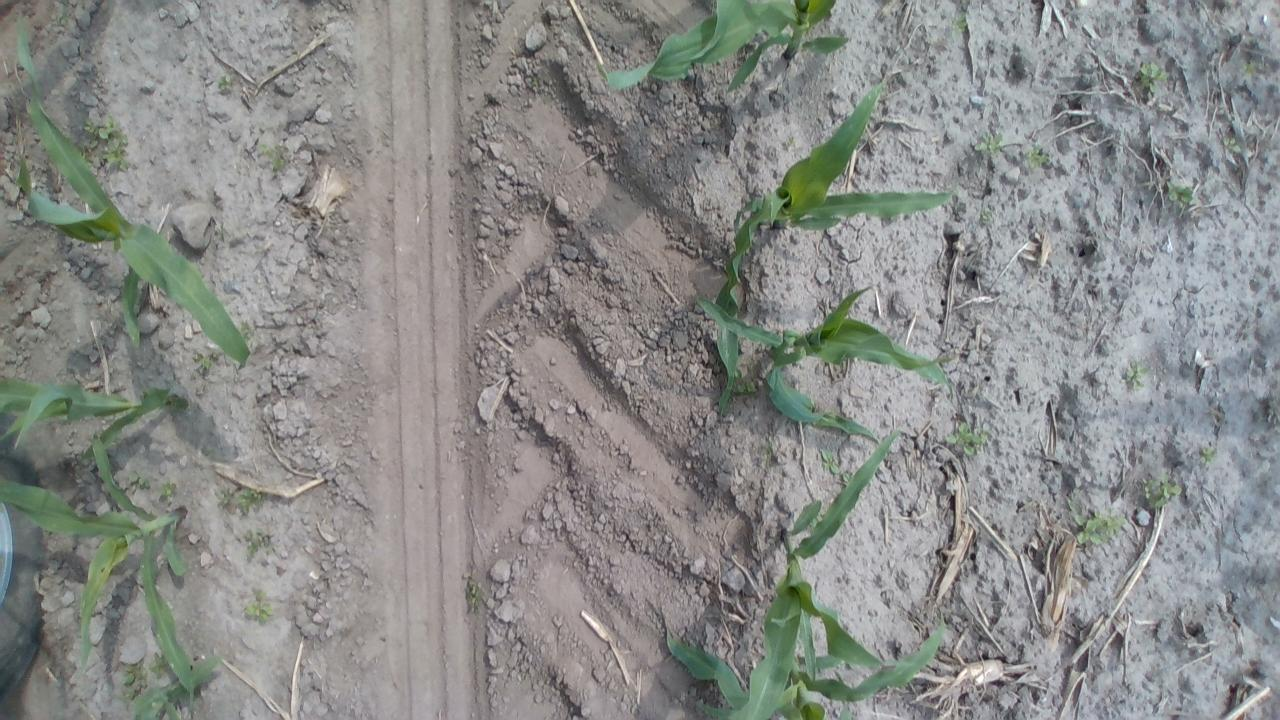Maize: (709, 77, 964, 421), (9, 15, 251, 370), (700, 427, 906, 720), (0, 434, 212, 698), (688, 286, 958, 448), (652, 617, 948, 720), (599, 0, 849, 94), (0, 367, 194, 467), (128, 657, 221, 720)
Weeds: (78, 113, 136, 175), (1066, 501, 1128, 547), (1136, 469, 1184, 513), (944, 421, 996, 457), (816, 446, 859, 488), (1163, 177, 1202, 222), (213, 486, 265, 517), (251, 142, 289, 178), (1132, 62, 1172, 96), (120, 658, 148, 706), (242, 591, 278, 624), (242, 528, 276, 556), (972, 128, 1004, 157), (1122, 357, 1146, 393), (1024, 142, 1052, 171), (732, 368, 756, 398), (190, 351, 219, 374), (463, 578, 481, 614), (1196, 440, 1219, 468), (148, 652, 172, 678), (1218, 130, 1242, 156), (214, 70, 236, 98), (124, 472, 154, 491), (950, 10, 974, 33), (1240, 56, 1260, 82), (160, 481, 180, 501), (978, 206, 995, 228)
